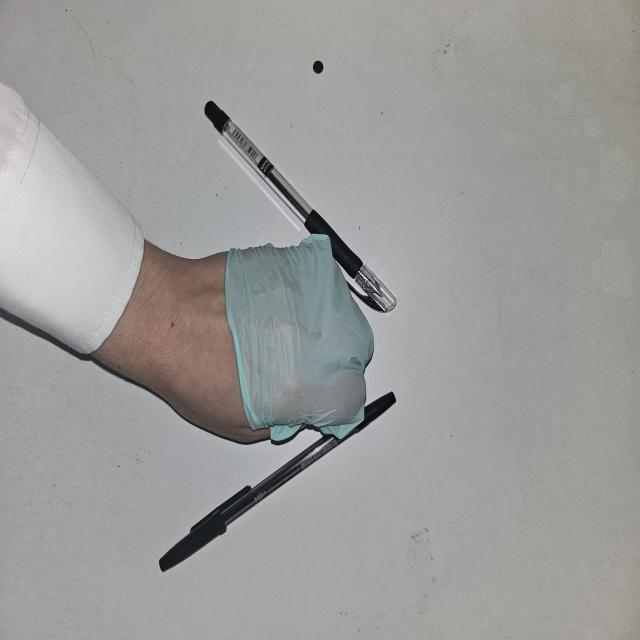glove_partial: (178, 232, 376, 444)
